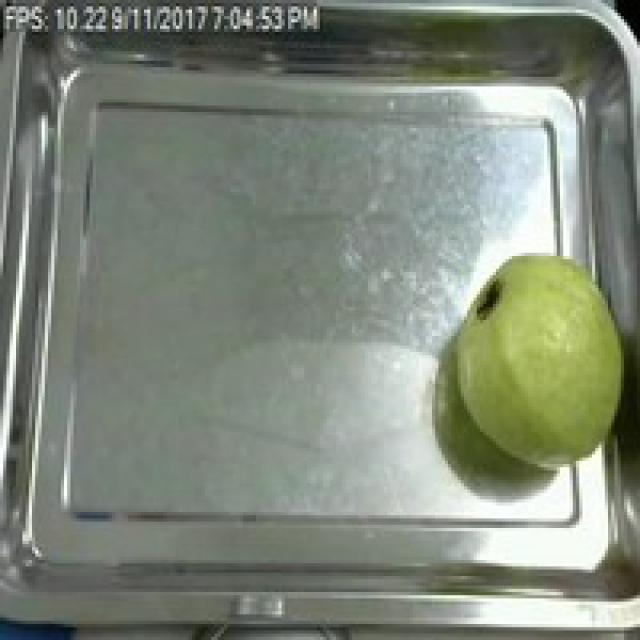Fruit: (441, 240, 640, 480)
